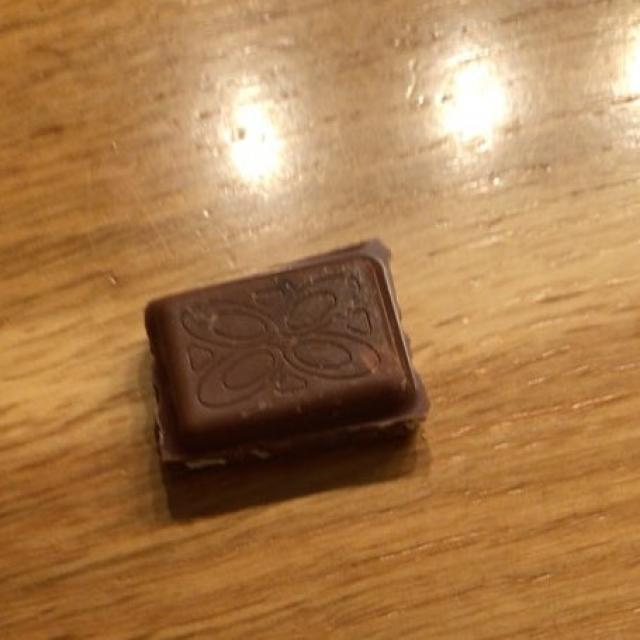chocolate: (151, 247, 427, 463)
